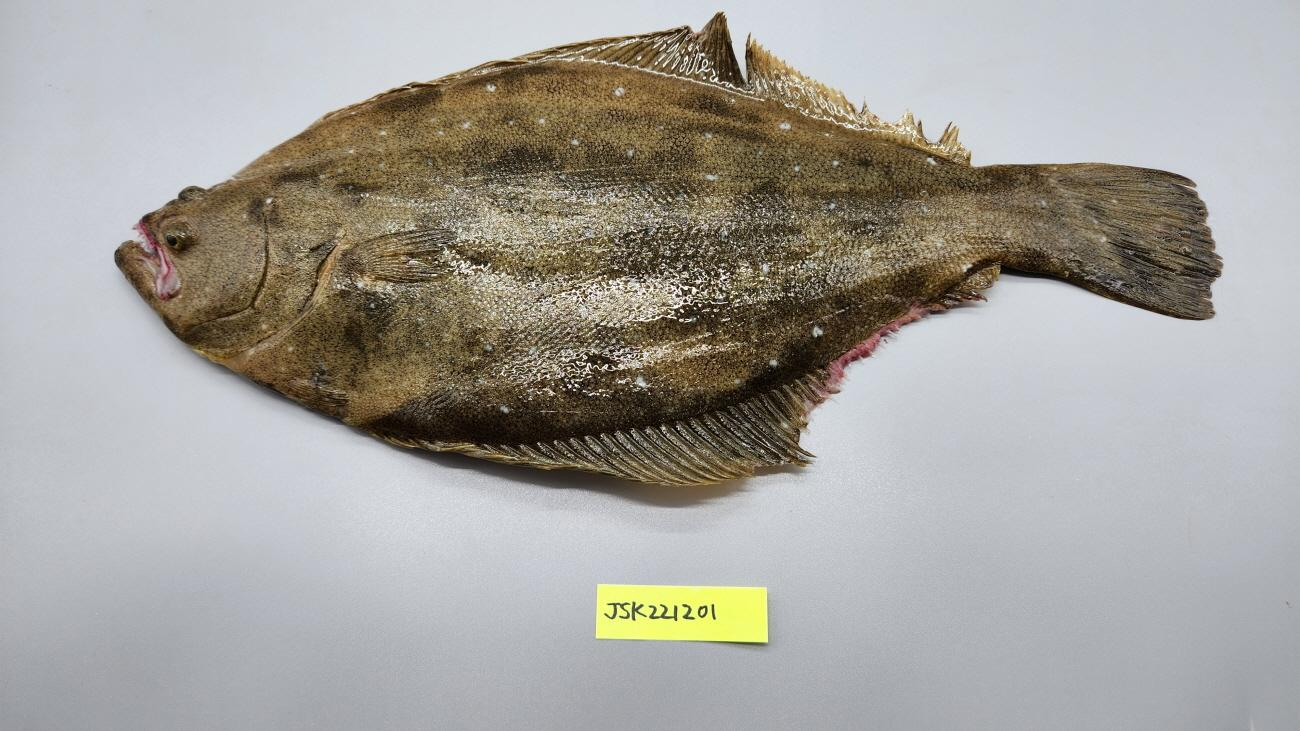VIMOU: (138, 218, 173, 302)
VIOUY: (113, 11, 1225, 488)
